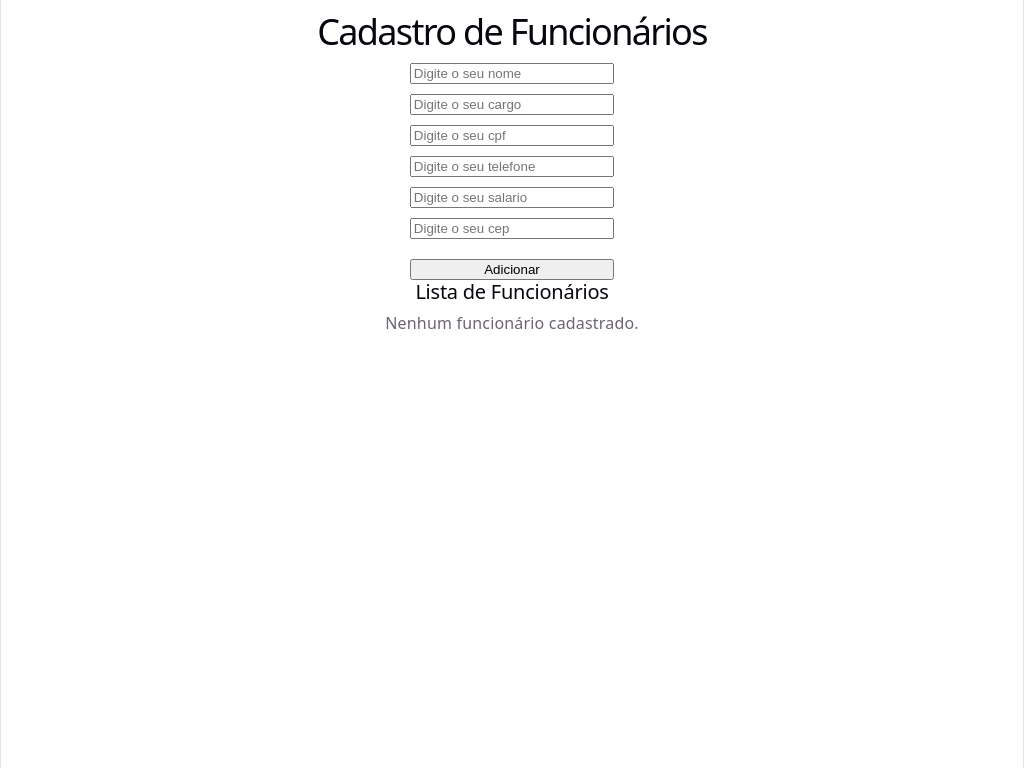
it: Testes da Tela Cadastro de Funcionários › Verificar exibição de erro ao tentar cadastrar funcionário sem nome
In the field with placeholder "Digite o seu cargo": x=512, y=105 410,94 -> 614,115, type "Vendedor"
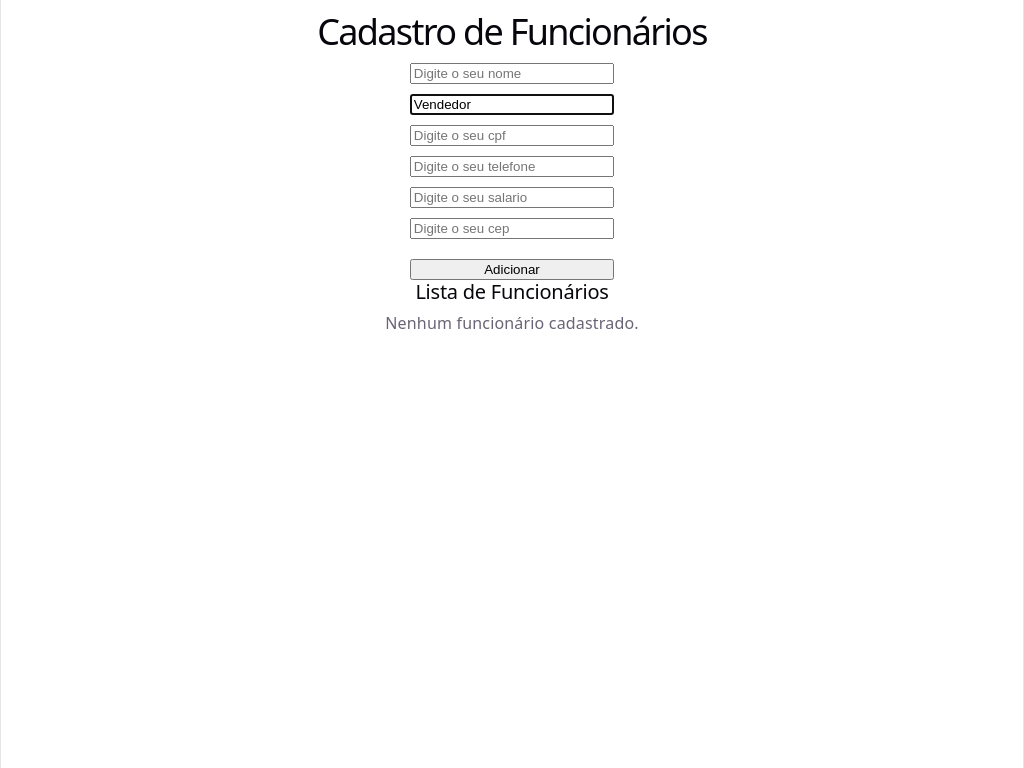
In the field with placeholder "Digite o seu cpf": x=512, y=136 410,125 -> 614,146, type "12345678910"
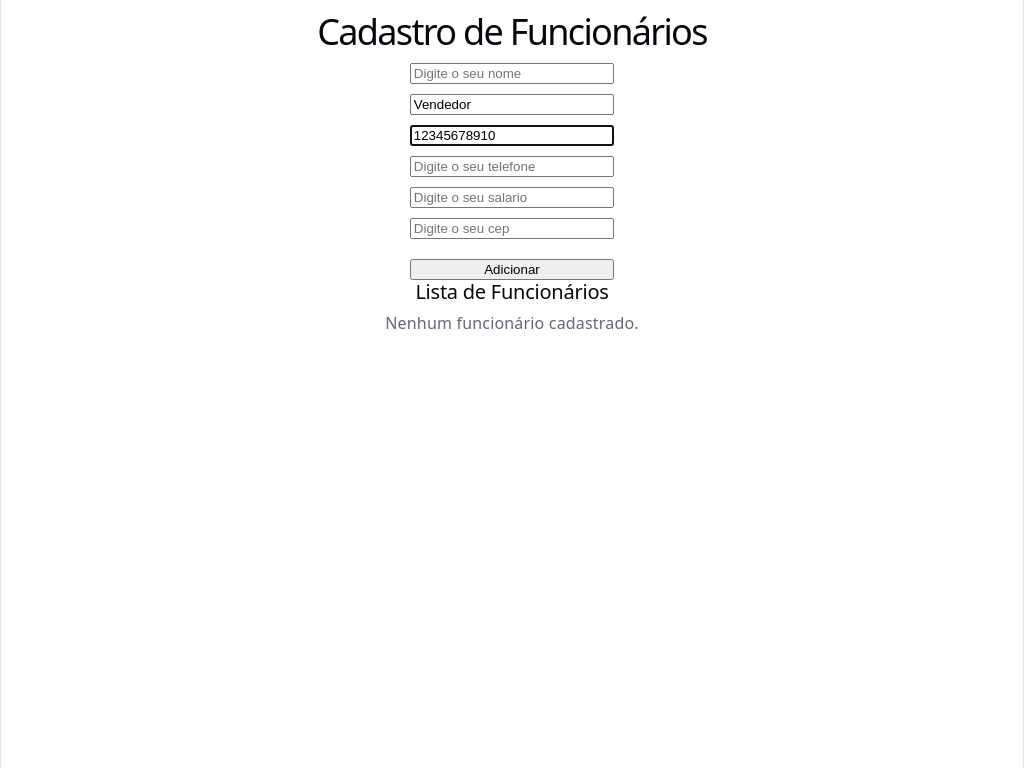
In the field with placeholder "Digite o seu salario": x=512, y=198 410,187 -> 614,208, type "5000.00"
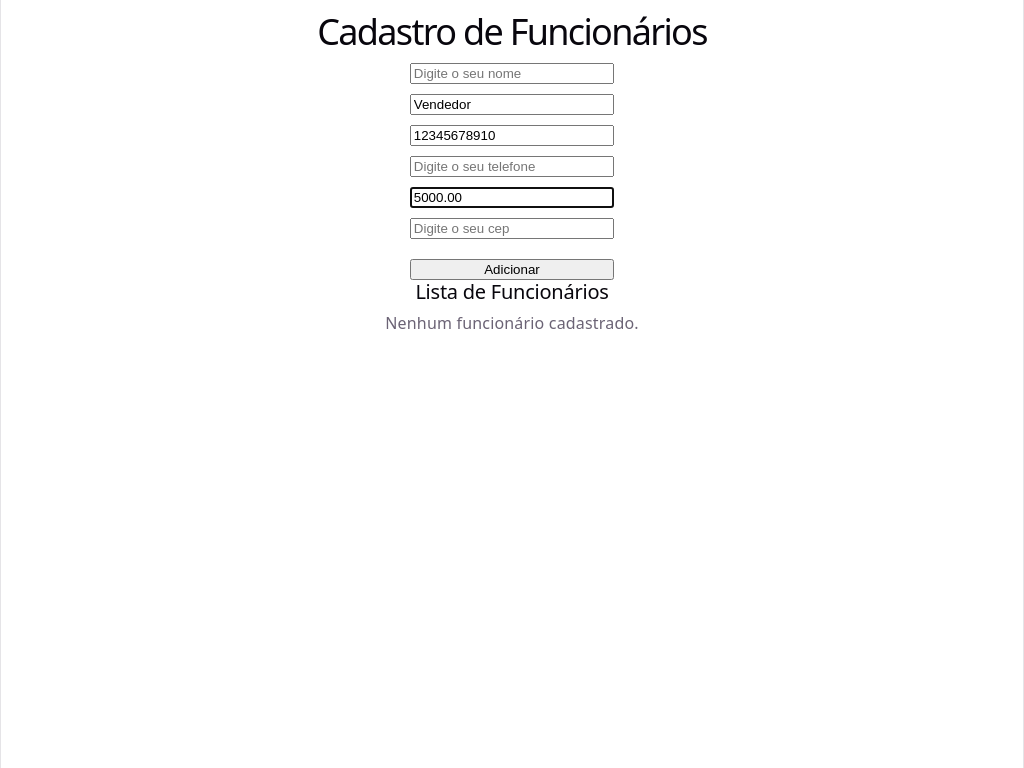
In the field with placeholder "Digite o seu telefone": x=512, y=167 410,156 -> 614,177, type "8598965423"
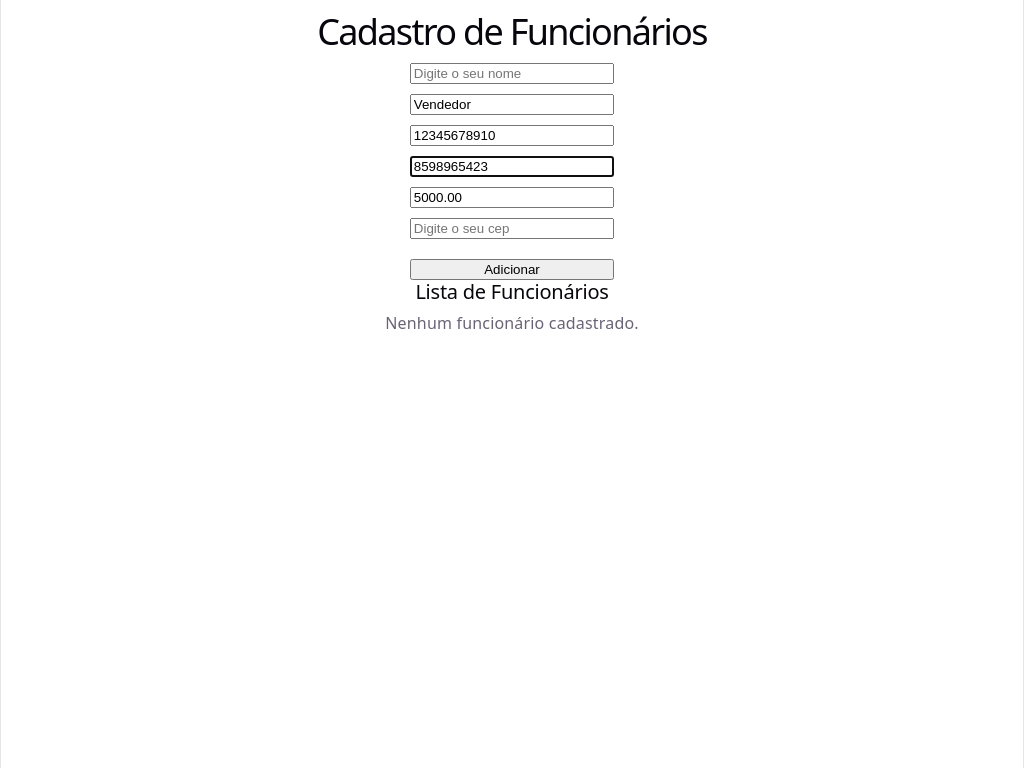
In the field with placeholder "Digite o seu cep": x=512, y=229 410,218 -> 614,239, type "12345610"
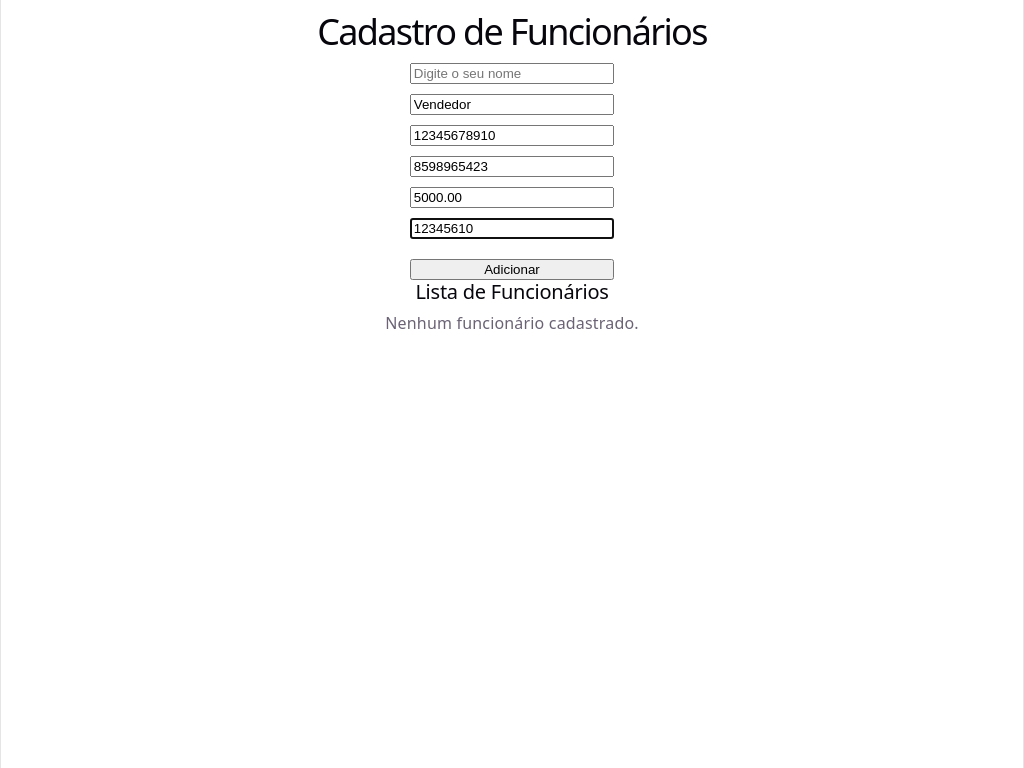
Click the button "Adicionar": x=512, y=270 410,259 -> 614,280
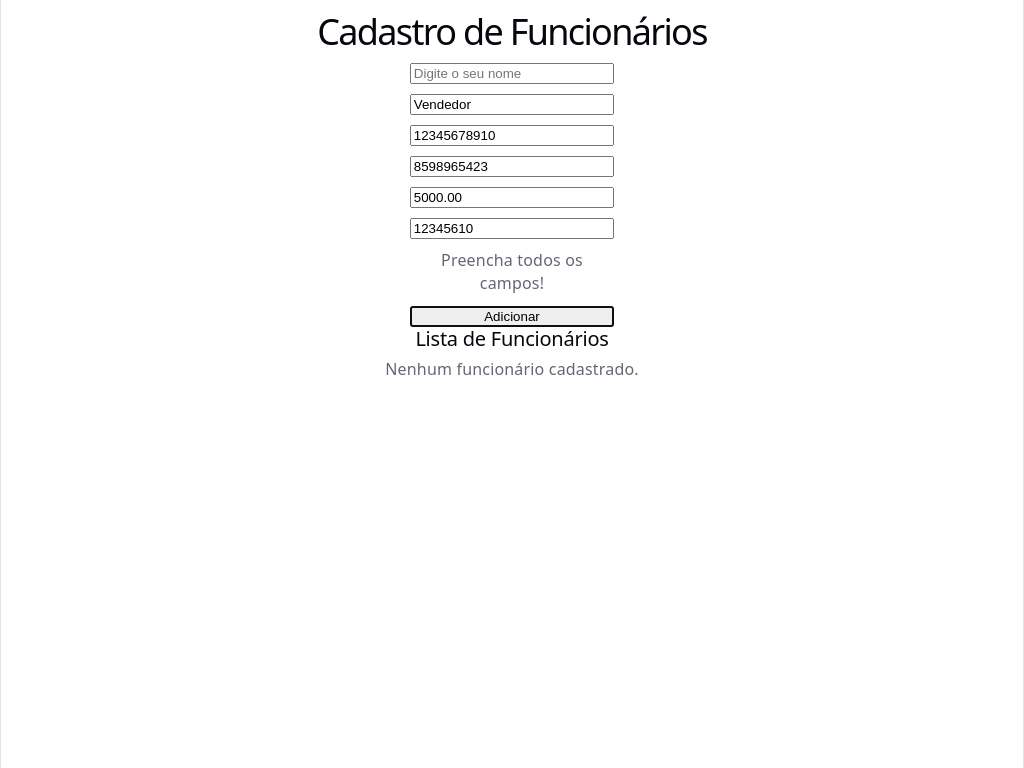
Now the message reads "Preencha todos os campos!", box 441,249 -> 583,294
